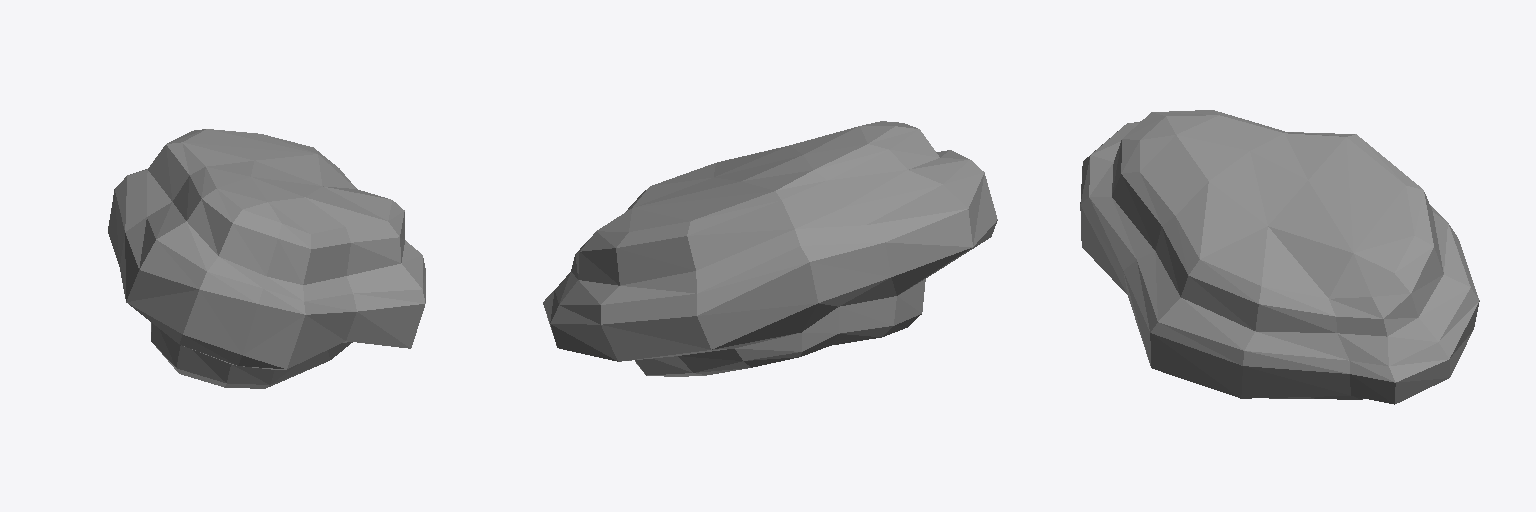
Rendered from rocks5.obj.
The picture shows the model from 3 angles: view 1: azimuth 30°, elevation 25°; view 2: azimuth 150°, elevation 25°; view 3: azimuth 270°, elevation 25°; orthographic projection.
Parts seen in each view (by area): view 1: (null)_sep10; view 2: (null)_sep10; view 3: (null)_sep10.
Boxes of the visible parts, box(x1,y1,x2,y2) form: (null)_sep10: box(108, 129, 425, 388); (null)_sep10: box(543, 121, 997, 376); (null)_sep10: box(1080, 110, 1479, 404).
Bounding box in the file's own units: 32.39 × 19.73 × 33.43.